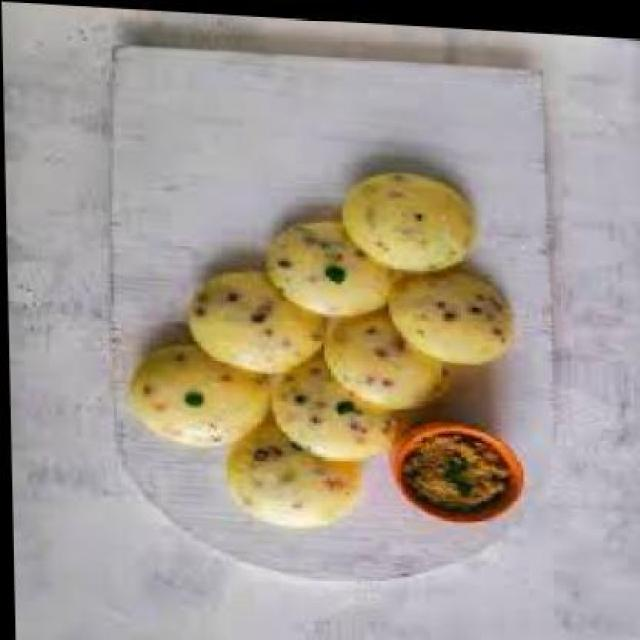idli: (223, 402, 360, 524), (269, 338, 406, 458), (121, 337, 268, 446), (323, 297, 462, 408), (186, 265, 326, 372), (340, 163, 474, 268), (263, 212, 392, 314), (385, 258, 512, 360)
